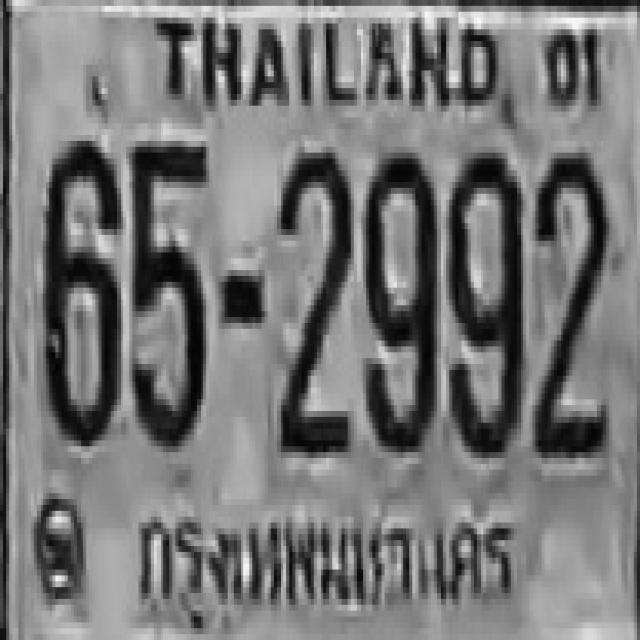2: (532, 147, 606, 452), (276, 144, 350, 449)
5: (129, 132, 206, 443)
6: (40, 135, 117, 440)
9: (446, 147, 520, 452), (363, 147, 434, 446)
Bangkok: (132, 487, 516, 626)
